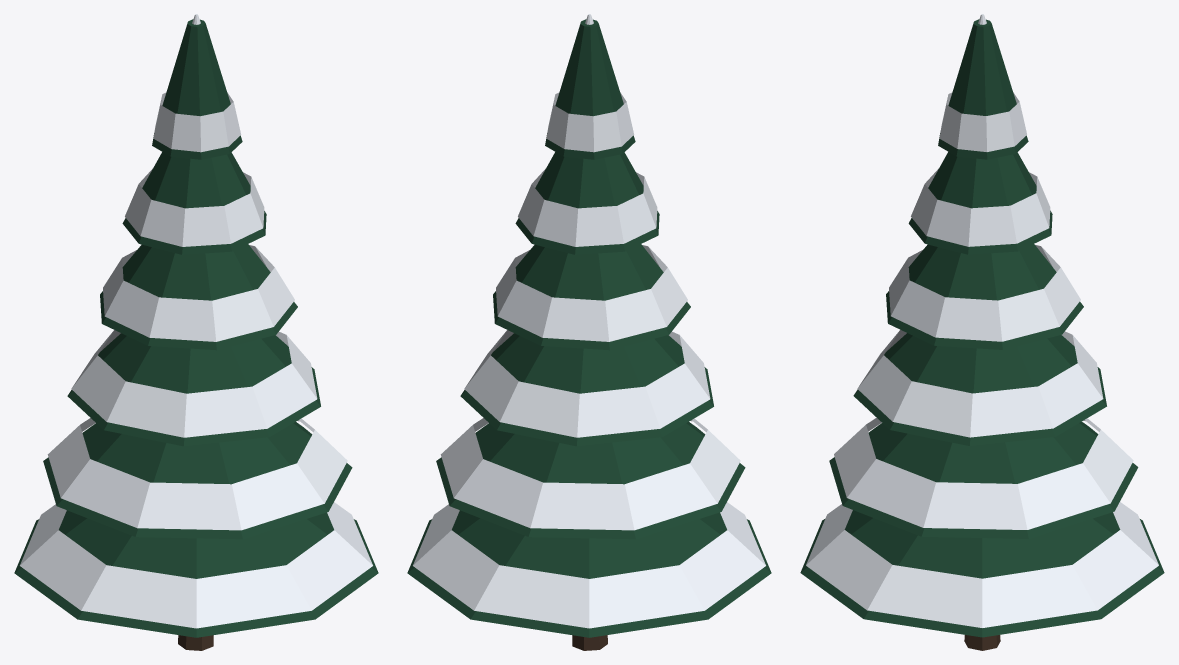
File: TU_Tree_SnowPine.obj
3 renders of one model, left to right at view 1: azimuth 30°, elevation 25°; view 2: azimuth 150°, elevation 25°; view 3: azimuth 270°, elevation 25°, orthographic.
Parts seen in each view (by area): view 1: snow_0, snow_1, tier_0, tier_1, snow_2, tier_2, snow_3, tier_3, tier_4, snow_4, tier_5, snow_5; view 2: snow_0, snow_1, tier_0, tier_1, snow_2, tier_2, snow_3, tier_3, tier_4, snow_4, tier_5, snow_5; view 3: snow_0, snow_1, tier_0, tier_1, snow_2, tier_2, snow_3, tier_3, tier_4, snow_4, tier_5, snow_5.
Boxes of the visible parts, <box> form: snow_0: <box>20,502,372,628</box>; snow_1: <box>47,418,347,530</box>; tier_0: <box>14,510,378,637</box>; tier_1: <box>43,422,352,539</box>; snow_2: <box>71,330,317,437</box>; tier_2: <box>67,333,320,446</box>; snow_3: <box>103,245,294,341</box>; tier_3: <box>100,244,297,350</box>; tier_4: <box>122,152,266,254</box>; snow_4: <box>125,168,264,246</box>; tier_5: <box>152,19,242,159</box>; snow_5: <box>153,92,241,152</box>; snow_0: <box>413,502,765,628</box>; snow_1: <box>440,418,740,530</box>; tier_0: <box>407,510,771,637</box>; tier_1: <box>436,422,745,539</box>; snow_2: <box>464,330,710,437</box>; tier_2: <box>460,333,713,446</box>; snow_3: <box>496,245,687,341</box>; tier_3: <box>493,244,690,350</box>; tier_4: <box>515,152,659,254</box>; snow_4: <box>518,168,657,246</box>; tier_5: <box>545,19,635,159</box>; snow_5: <box>546,92,634,152</box>; snow_0: <box>806,502,1158,627</box>; snow_1: <box>834,417,1133,529</box>; tier_0: <box>800,510,1164,637</box>; tier_1: <box>829,421,1138,538</box>; snow_2: <box>857,330,1103,437</box>; tier_2: <box>853,333,1106,445</box>; snow_3: <box>889,245,1080,341</box>; tier_3: <box>886,244,1083,349</box>; tier_4: <box>908,152,1052,254</box>; snow_4: <box>911,168,1050,246</box>; tier_5: <box>938,19,1028,159</box>; snow_5: <box>939,92,1026,151</box>.
Size of the model in its own units: 11.64 by 22.5 by 11.82.
